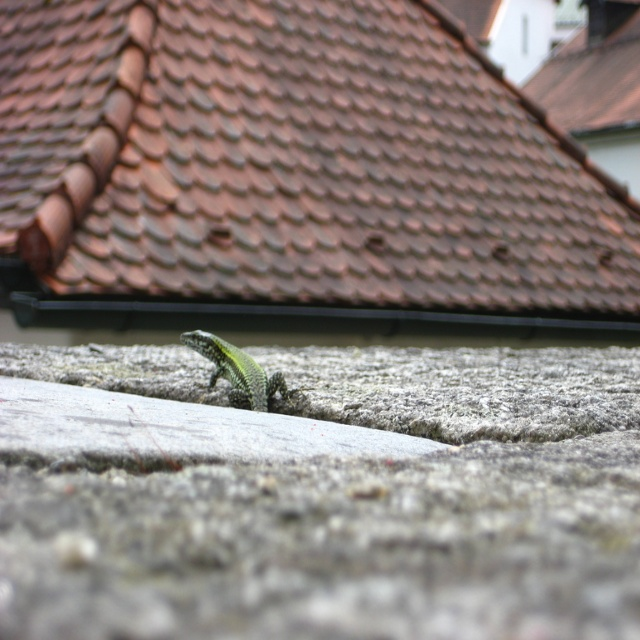Lizard: (180, 337, 290, 418)
